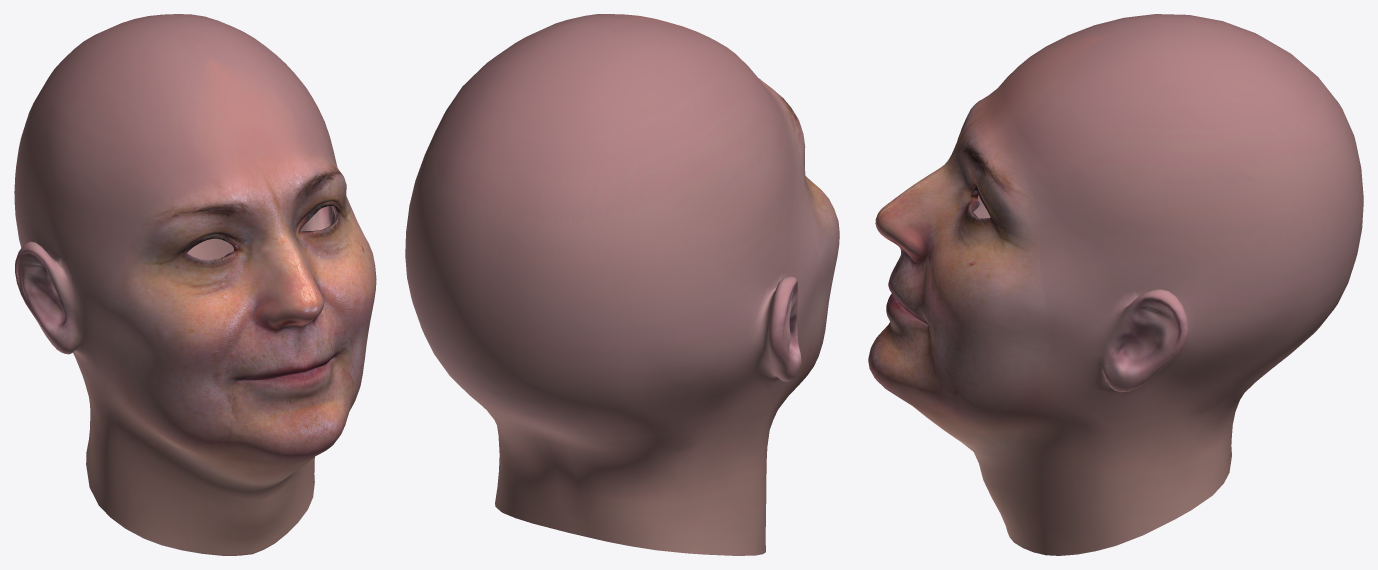
3 views of the same model, side by side, from view 1: azimuth 30°, elevation 25°; view 2: azimuth 150°, elevation 25°; view 3: azimuth 270°, elevation 25° (orthographic). The views are drawn at different scales.
Parts seen in each view (by area): view 1: FaceGen; view 2: FaceGen; view 3: FaceGen.
Part boxes in pixels (x1,y1,x2,y2): FaceGen: (14, 14, 376, 555); FaceGen: (405, 14, 839, 555); FaceGen: (868, 14, 1363, 555).
Size of the model in its own units: 196 by 278 by 247.
Materials: 1 (1 with a texture image).
